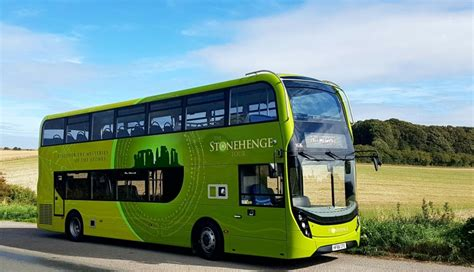bus: (37, 81, 359, 255)
